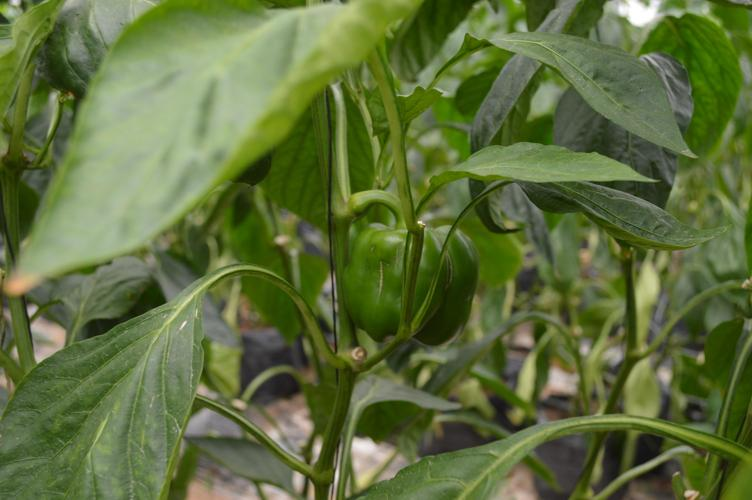BellPepper: (346, 218, 487, 350)
